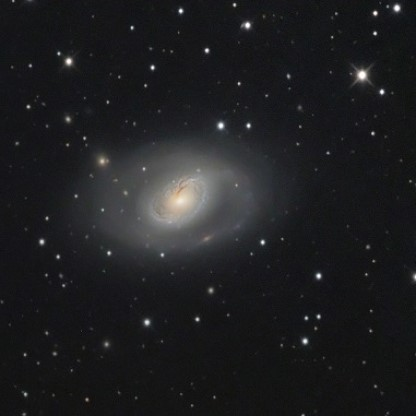Messier 96: (78, 126, 280, 263)
